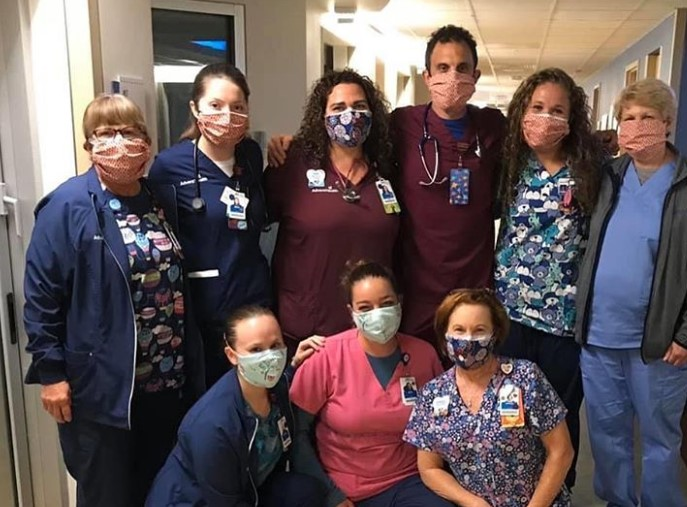face_with_mask: (80, 92, 156, 190), (221, 307, 292, 390), (315, 73, 388, 153), (422, 29, 489, 115), (191, 63, 253, 149), (614, 79, 677, 162), (439, 288, 502, 371), (515, 71, 576, 154), (347, 262, 406, 344), (521, 71, 578, 149)
